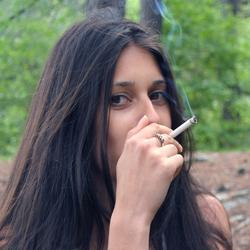smoking: (116, 114, 200, 217)
